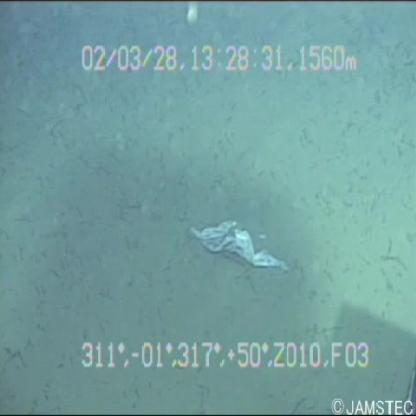Rác: (174, 200, 304, 285)
